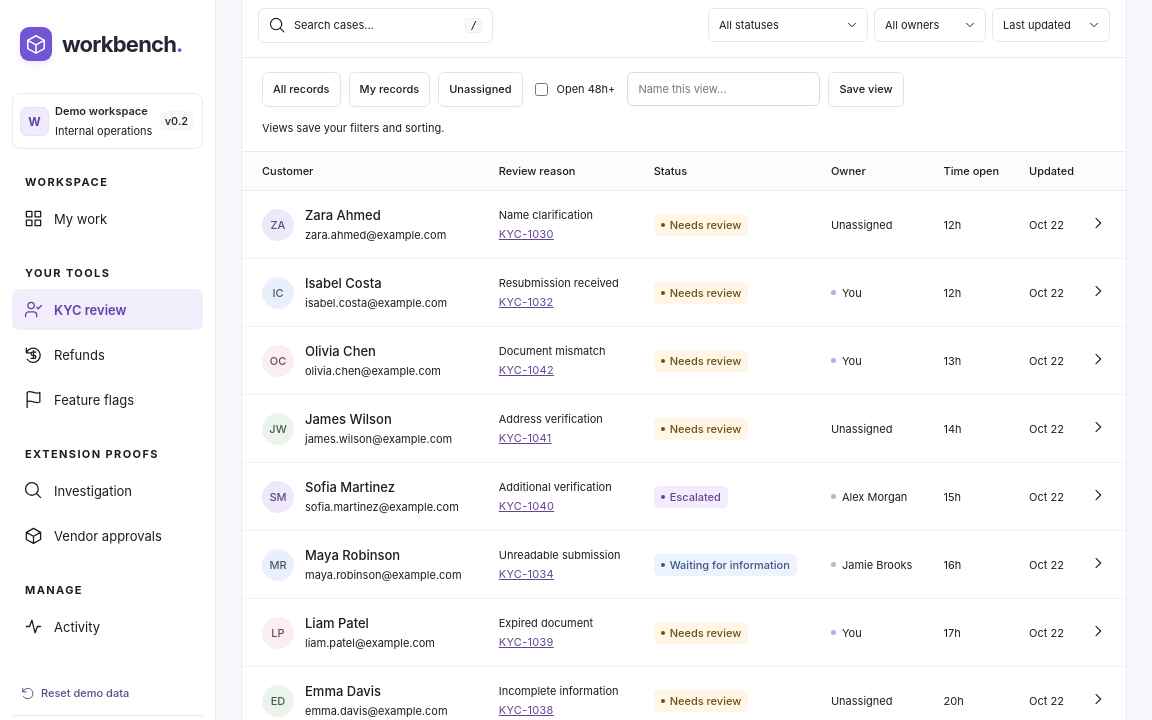
local workbench integrity › clears only transient write warnings after storage recovers
(page scrolled)
Step 1. Click the button with aria-label "Open Olivia Chen" → [351, 361], box left=262, top=343, right=441, bottom=378
(page scrolled)
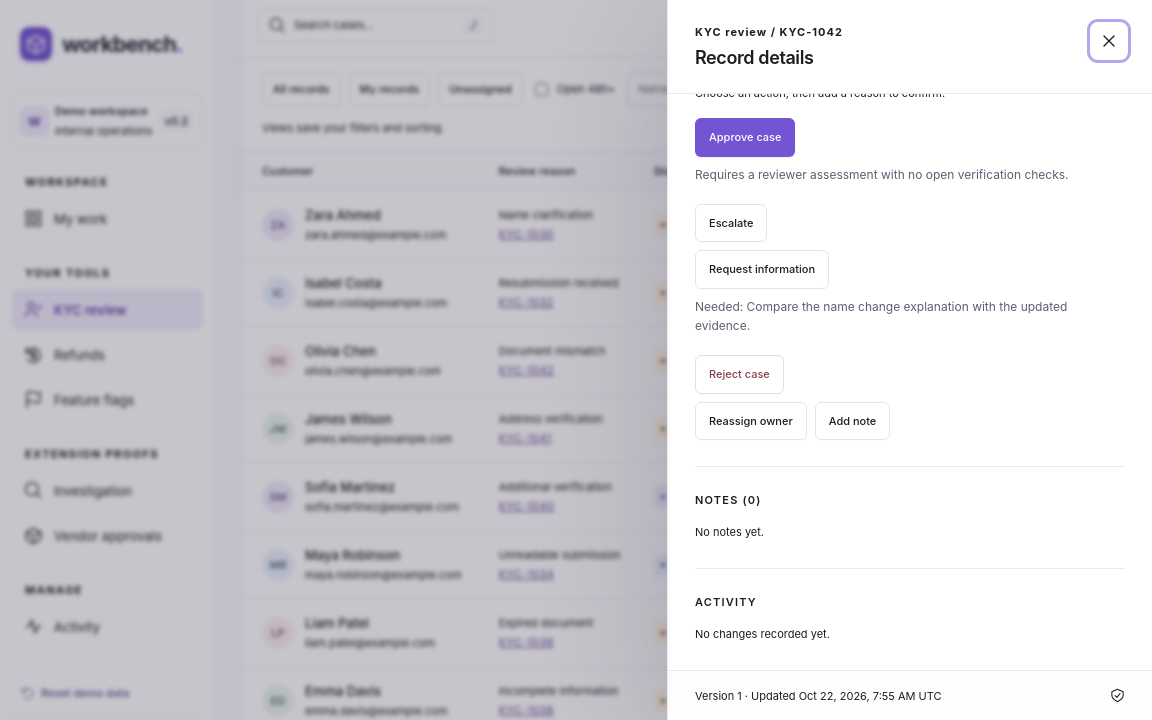
Step 2. Click the button "Add note" → [852, 421], box left=815, top=402, right=890, bottom=440
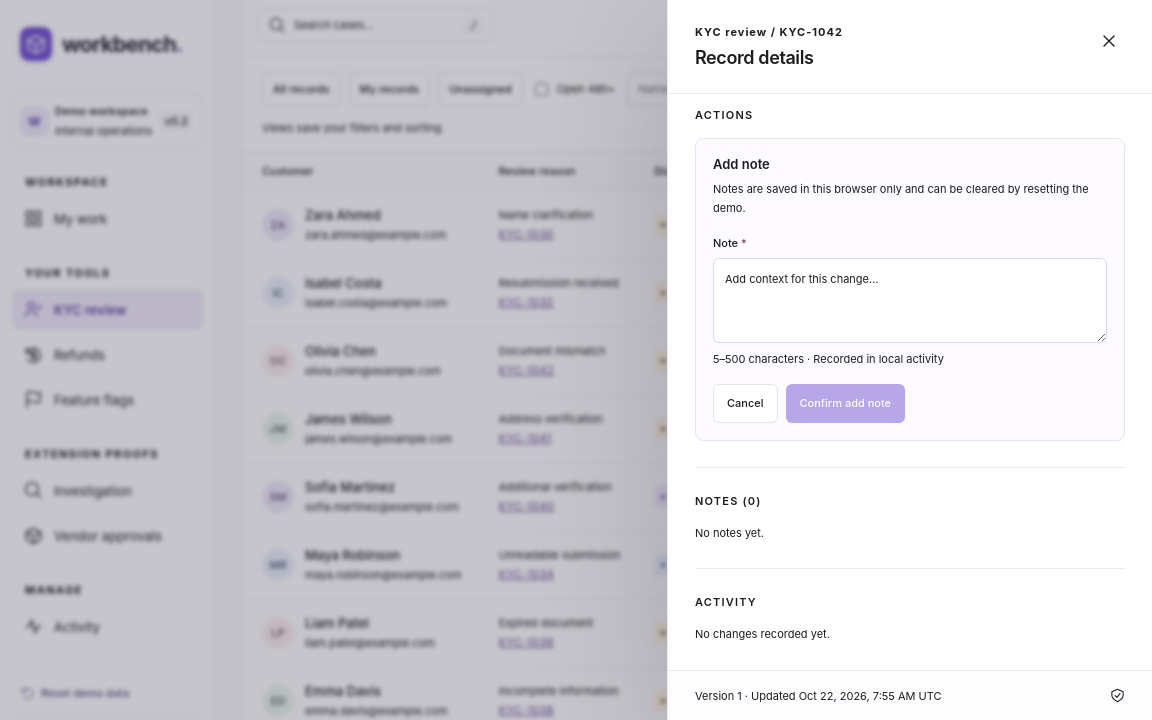
Step 3. Type "Retained after temporary storage failure." into the text box labelled "Note *" → [910, 301], box left=713, top=258, right=1107, bottom=343
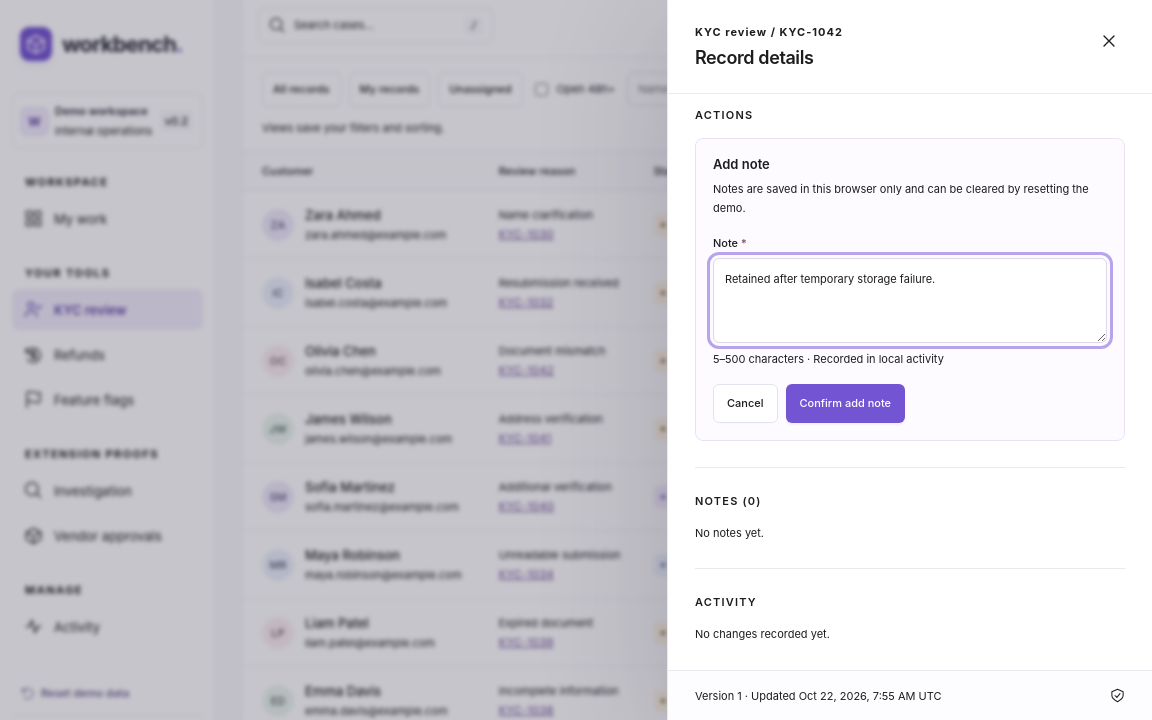
Step 4. Click the button "Confirm add note" → [845, 403], box left=786, top=384, right=905, bottom=423
(page scrolled)
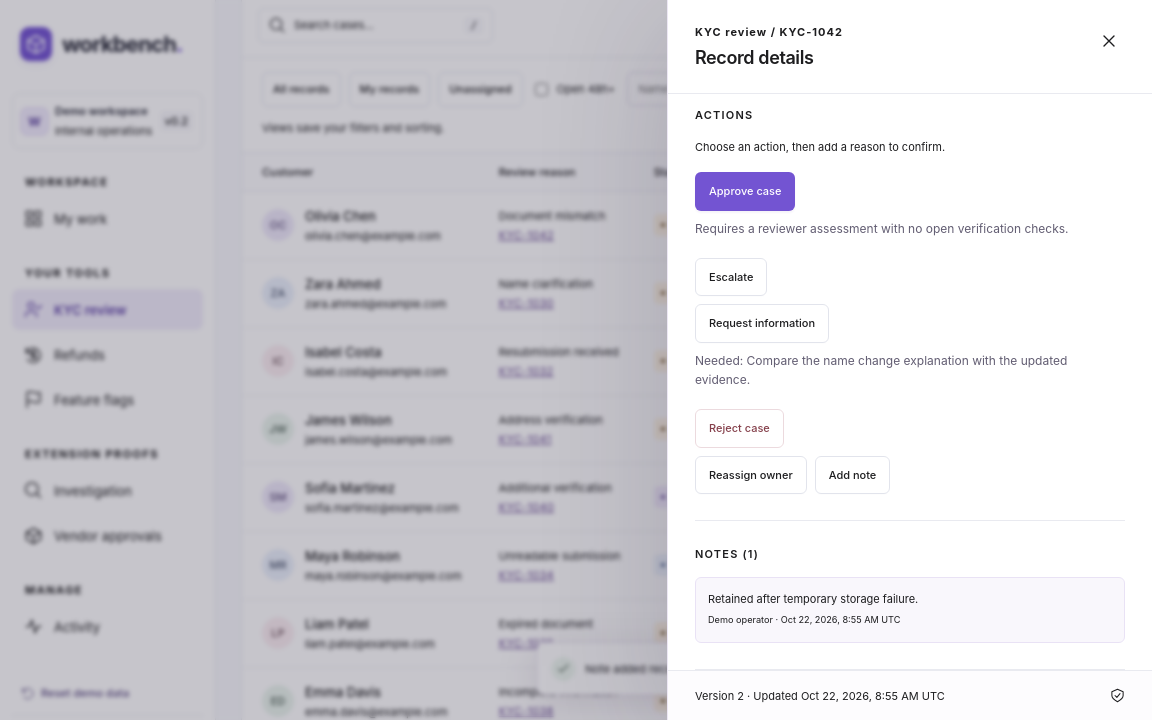
Result: the text "Retained after temporary storage failure." is shown at left=708, top=592, right=918, bottom=606
